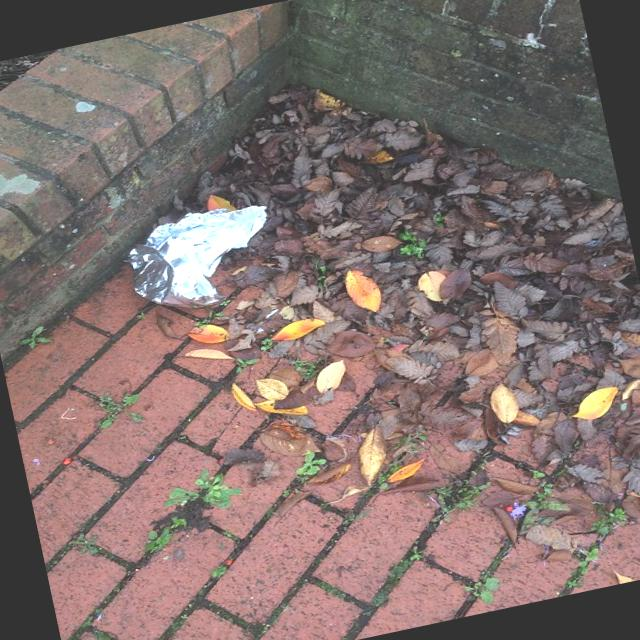Trash: (120, 196, 284, 321), (506, 494, 545, 527)
